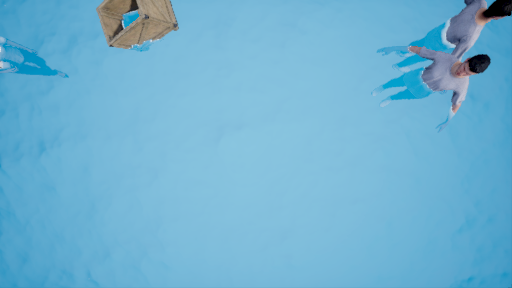person: (373, 26, 483, 130)
